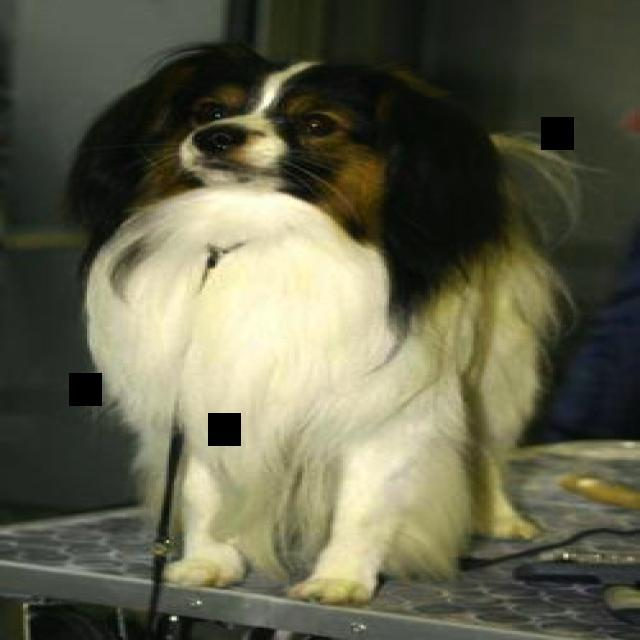adult_dog: (70, 48, 589, 604)
